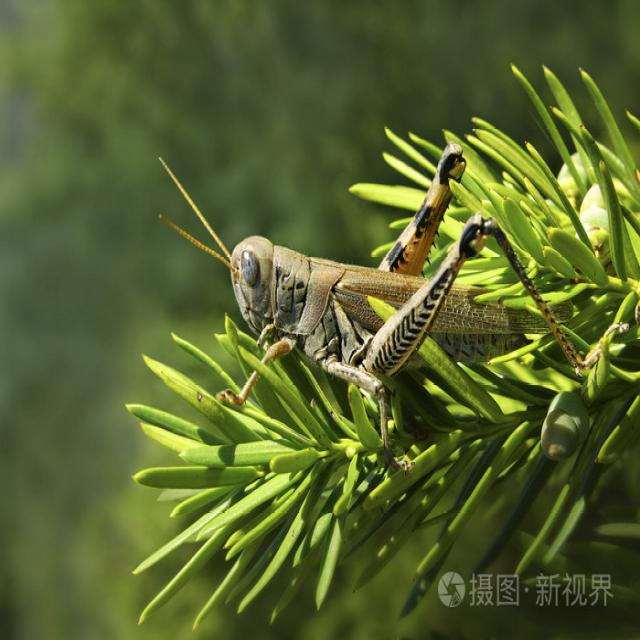ZhaMeng: (145, 151, 594, 415)
